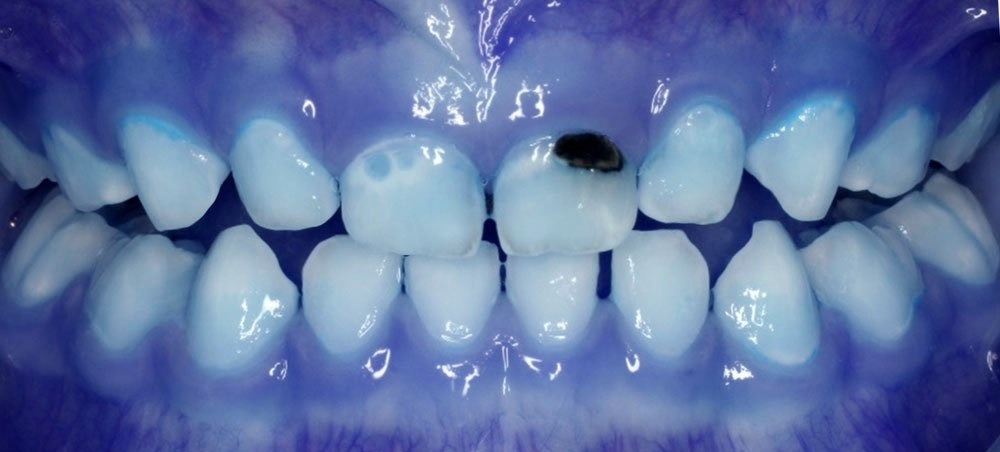karies: (547, 126, 628, 180)
